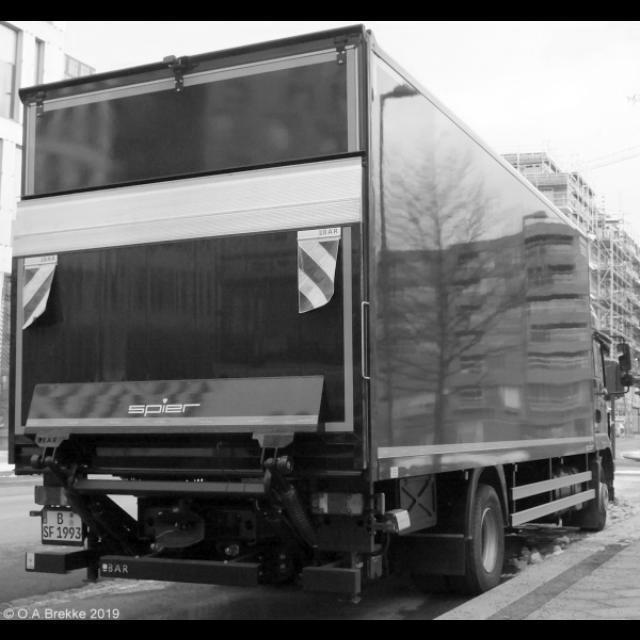licenseplate: (41, 509, 82, 539)
